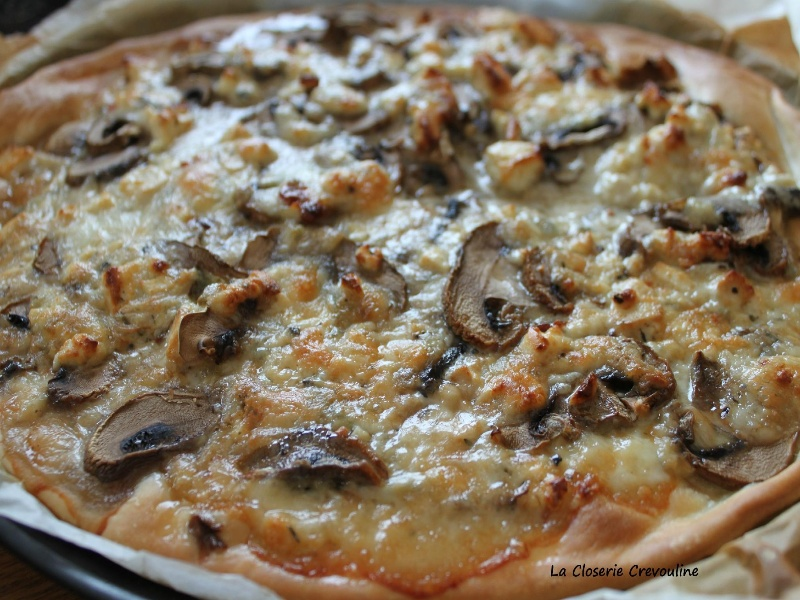champignon: (74, 383, 238, 486), (435, 219, 543, 357)
